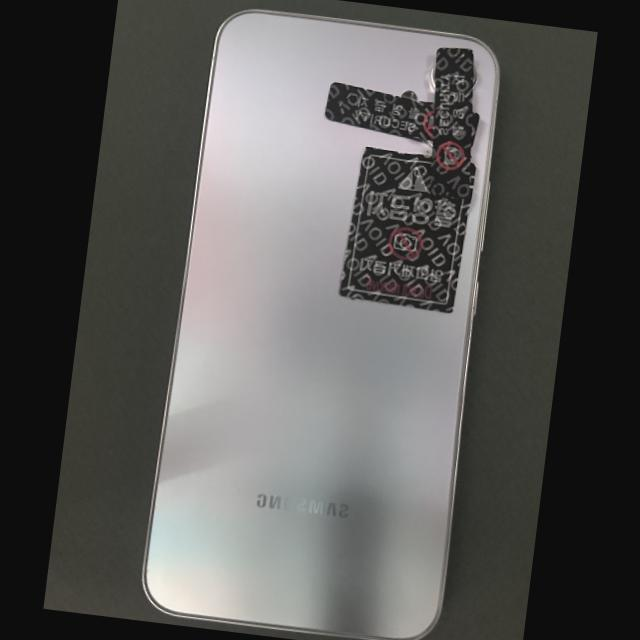lens: (470, 64, 476, 89)
phone: (142, 8, 501, 640)
sticker: (336, 146, 476, 314), (429, 47, 472, 198), (324, 82, 433, 141)
